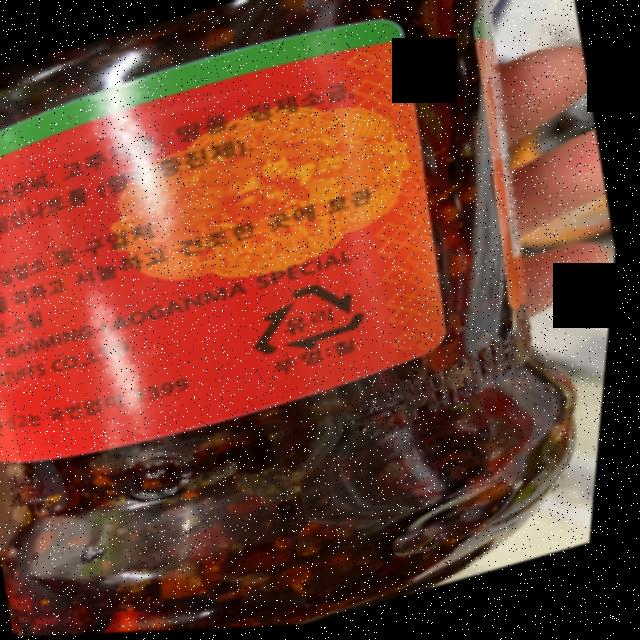Glass: (245, 270, 383, 368)
